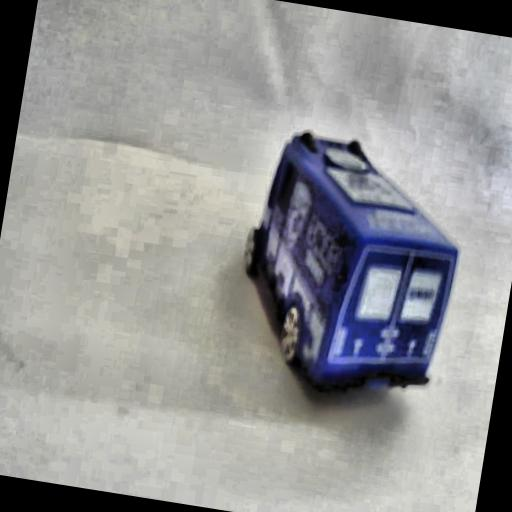police car: (222, 116, 476, 416)
